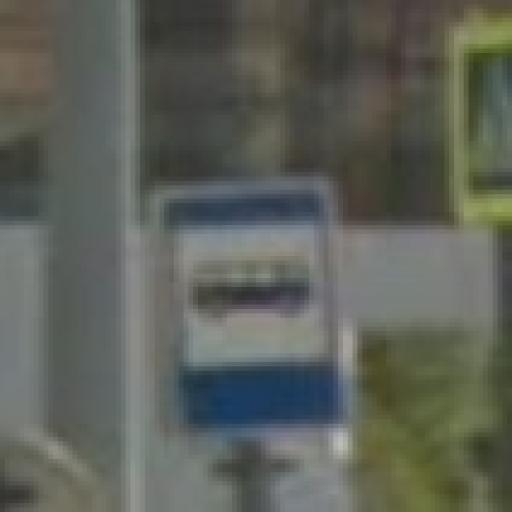traffic_sign: (151, 178, 354, 447)
